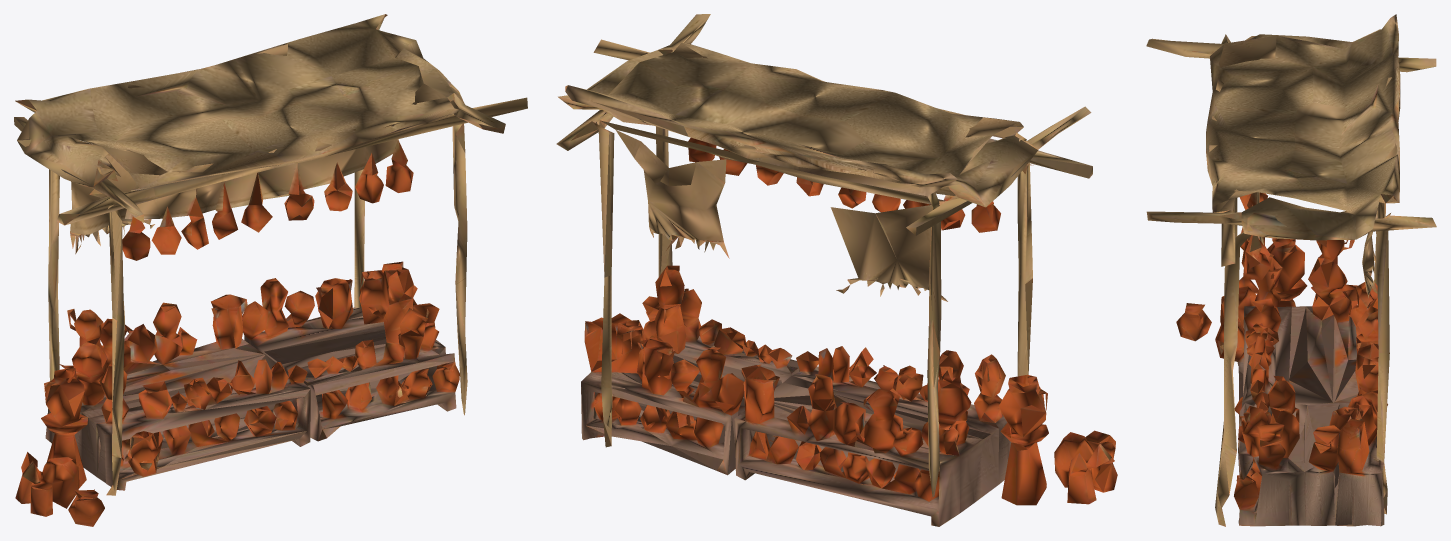
File: la_pottery_stall.glb
3 renders of one model, left to right at view 1: azimuth 30°, elevation 25°; view 2: azimuth 150°, elevation 25°; view 3: azimuth 270°, elevation 25°, orthographic. The views are drawn at different scales.
Visible parts, largest first — view 1: la_pottery_stall; view 2: la_pottery_stall; view 3: la_pottery_stall.
Part boxes in pixels (x1,y1,x2,y2): la_pottery_stall: (14,14,527,526); la_pottery_stall: (556,14,1117,526); la_pottery_stall: (1146,14,1436,526).
Size of the model in its own units: 2 by 1.32 by 1.03.
1 material, 1 textured.
